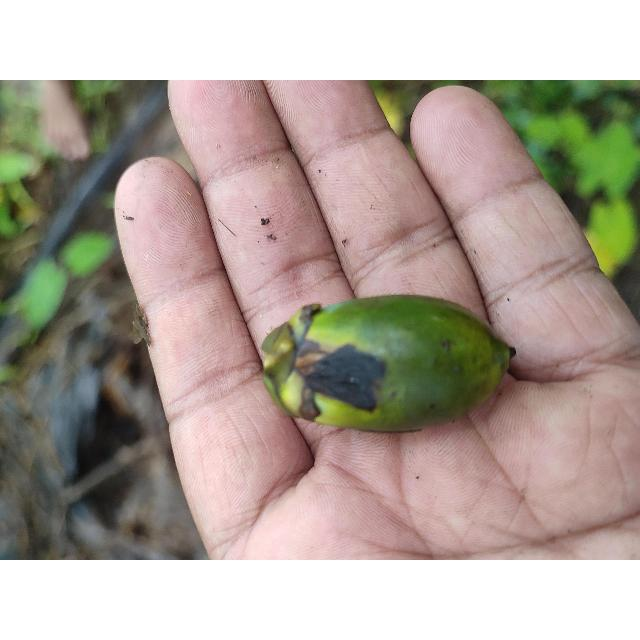good: (257, 295, 516, 436)
